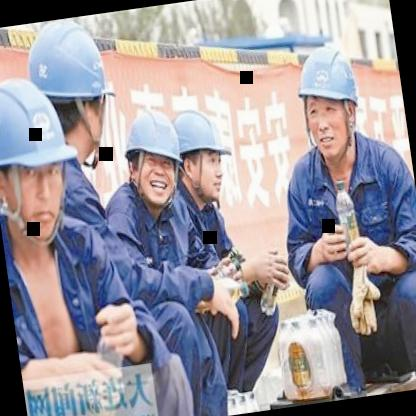helmet: (17, 13, 122, 173), (0, 60, 85, 232), (285, 32, 370, 164), (157, 102, 232, 214), (116, 103, 189, 214)
